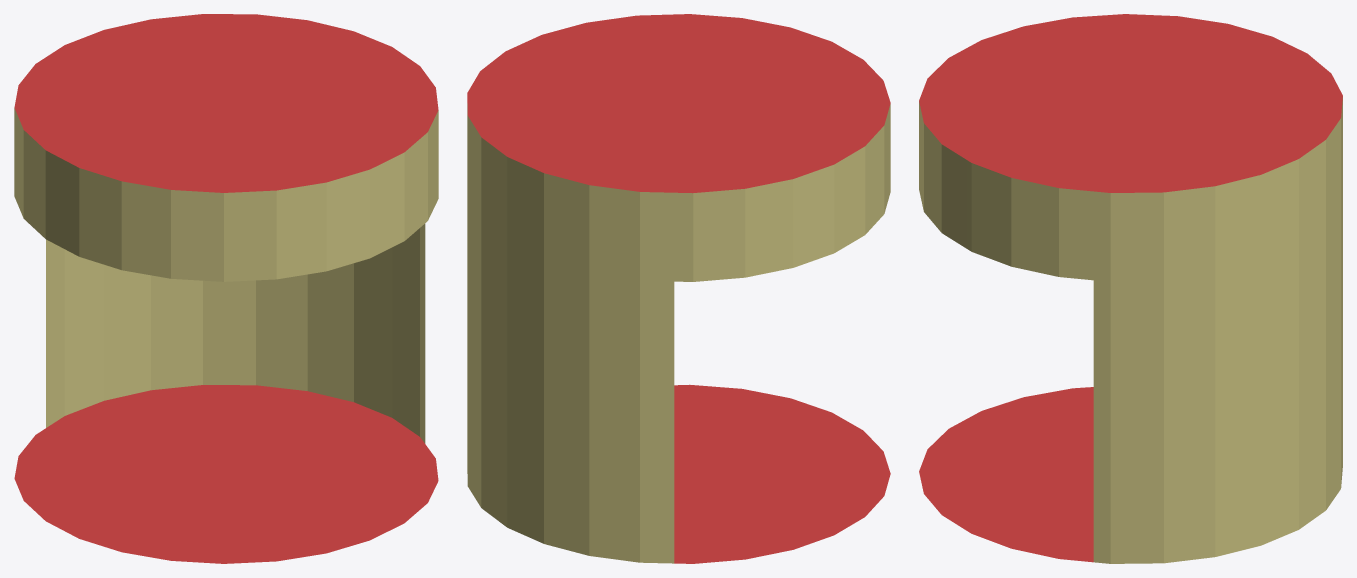
The picture shows the model from 3 angles, left to right: view 1: azimuth 30°, elevation 25°; view 2: azimuth 150°, elevation 25°; view 3: azimuth 270°, elevation 25°; orthographic projection.
Bounding box in the file's own units: 10.04 × 10.04 × 9.7.
